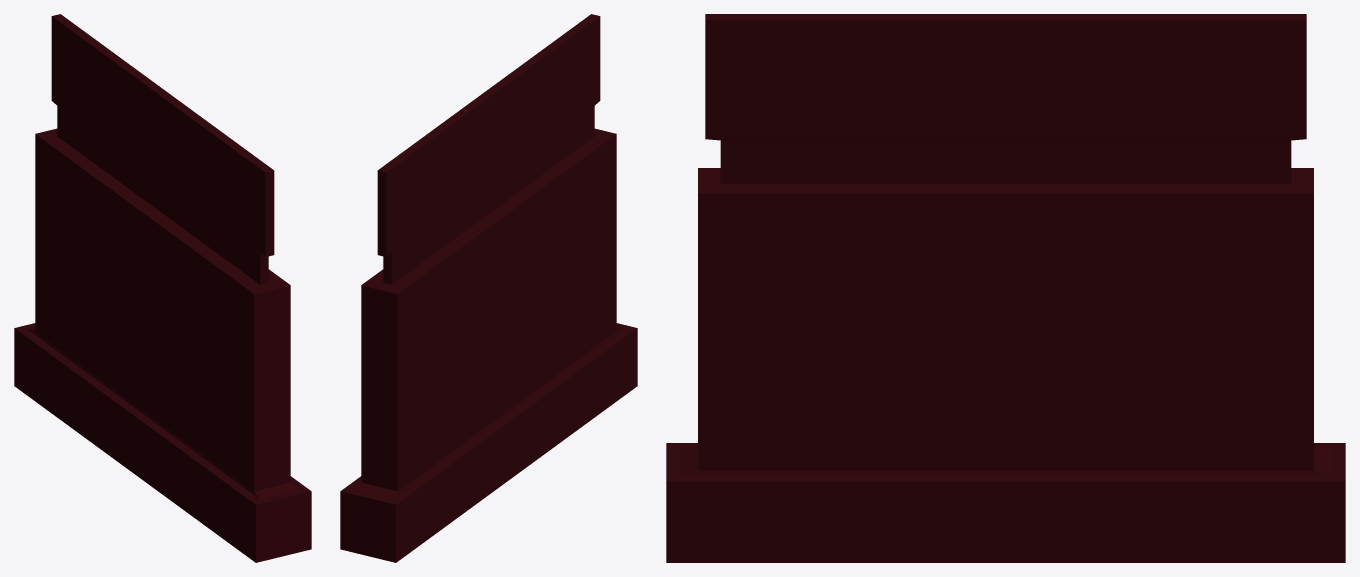
Rendered from VallasPuente.fbx.
3 views of the same model, side by side, from view 1: azimuth 30°, elevation 25°; view 2: azimuth 150°, elevation 25°; view 3: azimuth 270°, elevation 25° (orthographic). The views are drawn at different scales.
Parts seen in each view (by area): view 1: VallasPuente; view 2: VallasPuente; view 3: VallasPuente.
Part boxes in pixels (left/top/right/bottom): VallasPuente: left=14, top=14, right=311, bottom=562; VallasPuente: left=340, top=14, right=637, bottom=562; VallasPuente: left=666, top=14, right=1345, bottom=562.
Bounding box in the file's own units: 38.14 × 246 × 287.
